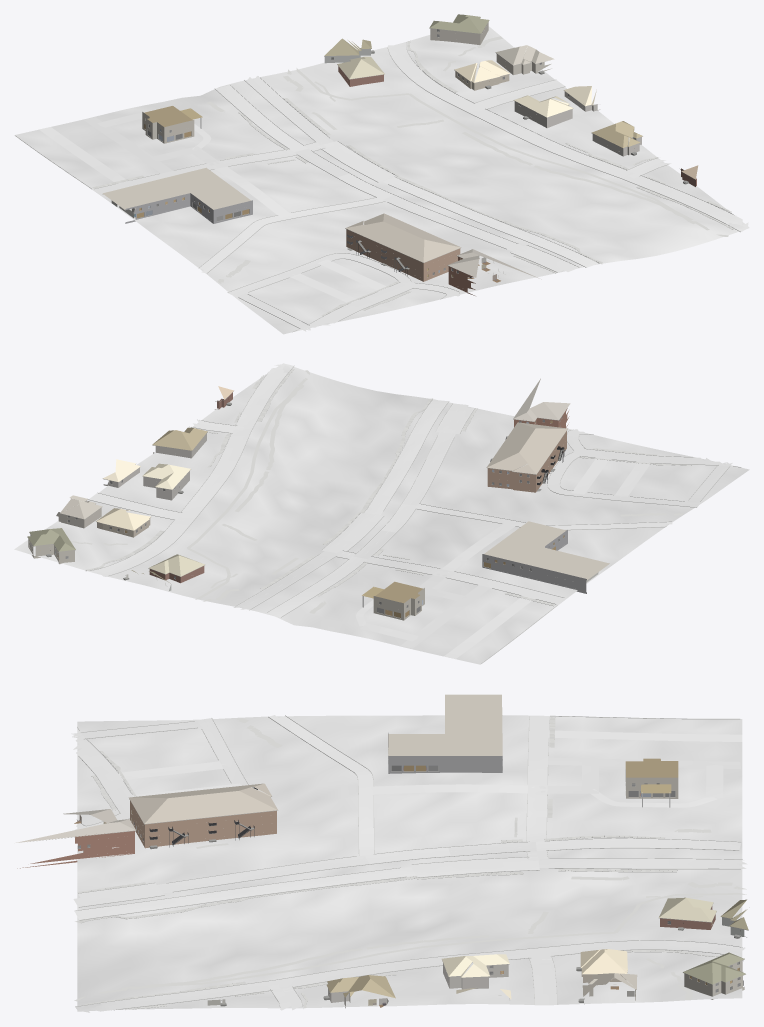
The picture shows the model from 3 angles, top to bottom: view 1: azimuth 30°, elevation 25°; view 2: azimuth 150°, elevation 25°; view 3: azimuth 270°, elevation 25°; orthographic projection. The views are drawn at different scales.
Visible parts, largest first — view 1: ground, concrete, asphalt, roof, walk, curb, roof_flat, wall, wall_com, wall_stucco, wall_stone, detail; view 2: ground, concrete, asphalt, roof, walk, roof_flat, curb, wall_com, wall, wall_stucco, wall_stone, detail; view 3: ground, concrete, asphalt, roof, walk, curb, roof_flat, wall, wall_com, detail, wall_stucco, wall_stone (+2 smaller).
Part boxes in pixels (x1=…): ground: x1=14, y1=26, x2=749, y2=334; concrete: x1=39, y1=42, x2=748, y2=331; asphalt: x1=95, y1=76, x2=598, y2=272; roof: x1=324, y1=14, x2=698, y2=279; walk: x1=92, y1=36, x2=734, y2=315; curb: x1=15, y1=42, x2=740, y2=332; roof_flat: x1=102, y1=106, x2=250, y2=209; wall: x1=338, y1=66, x2=696, y2=295; wall_com: x1=125, y1=112, x2=252, y2=223; wall_stucco: x1=324, y1=22, x2=551, y2=90; wall_stone: x1=514, y1=91, x2=641, y2=156; detail: x1=137, y1=17, x2=695, y2=278; ground: x1=14, y1=363, x2=749, y2=664; concrete: x1=89, y1=364, x2=732, y2=658; asphalt: x1=233, y1=399, x2=564, y2=617; roof: x1=27, y1=378, x2=570, y2=583; walk: x1=70, y1=369, x2=691, y2=613; roof_flat: x1=362, y1=521, x2=609, y2=603; curb: x1=86, y1=365, x2=741, y2=663; wall_com: x1=362, y1=530, x2=586, y2=620; wall: x1=149, y1=392, x2=569, y2=583; wall_stucco: x1=28, y1=500, x2=171, y2=590; wall_stone: x1=103, y1=433, x2=206, y2=500; detail: x1=27, y1=391, x2=567, y2=618; ground: x1=77, y1=715, x2=742, y2=1011; concrete: x1=71, y1=715, x2=745, y2=1012; asphalt: x1=73, y1=716, x2=747, y2=919; roof: x1=16, y1=783, x2=748, y2=999; walk: x1=74, y1=717, x2=746, y2=1010; curb: x1=74, y1=715, x2=743, y2=1010; roof_flat: x1=388, y1=694, x2=678, y2=793; wall: x1=17, y1=800, x2=715, y2=929; wall_com: x1=388, y1=733, x2=678, y2=807; detail: x1=30, y1=733, x2=748, y2=1006; wall_stucco: x1=581, y1=917, x2=746, y2=1004; wall_stone: x1=328, y1=963, x2=508, y2=1008.
Size of the model in its own units: 260 by 19.14 by 277.
